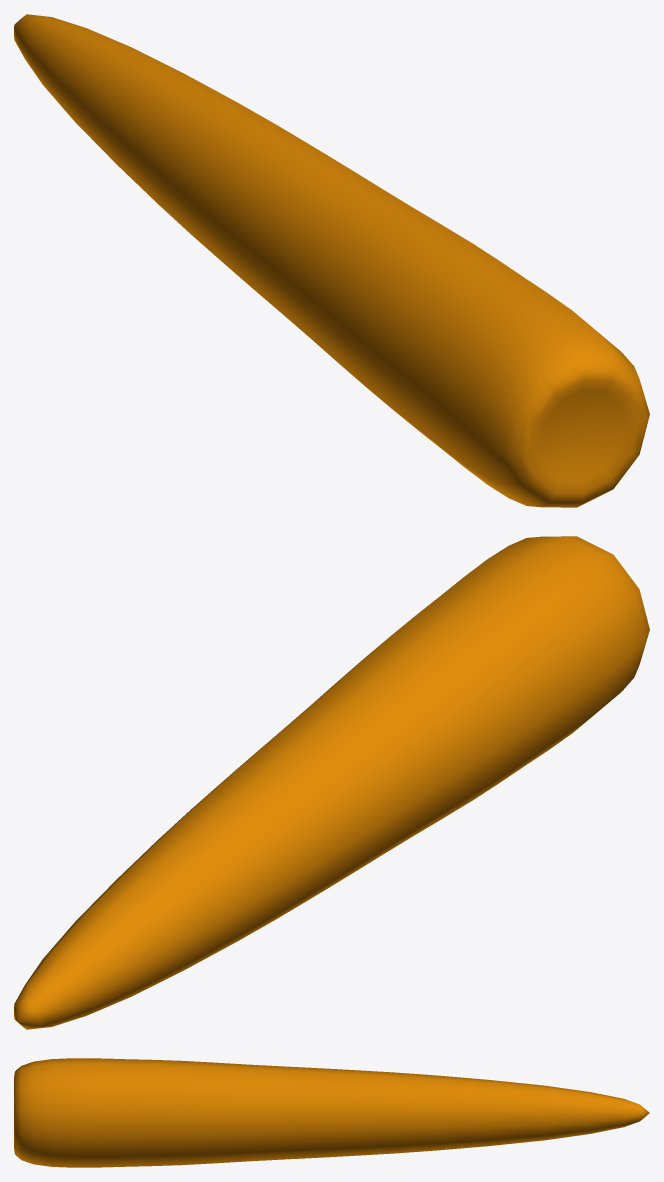
Rendered from SniperAmmoOrange.fbx.
3 views of the same model, one above another, from view 1: azimuth 30°, elevation 25°; view 2: azimuth 150°, elevation 25°; view 3: azimuth 270°, elevation 25° (orthographic). The views are drawn at different scales.
Parts seen in each view (by area): view 1: SniperAmmo; view 2: SniperAmmo; view 3: SniperAmmo.
Boxes of the visible parts, x1,y1,x2,y2 form: SniperAmmo: (14, 14, 649, 507); SniperAmmo: (14, 536, 649, 1029); SniperAmmo: (14, 1058, 649, 1167).
Size of the model in its own units: 0.2695 by 0.2667 by 1.56.
